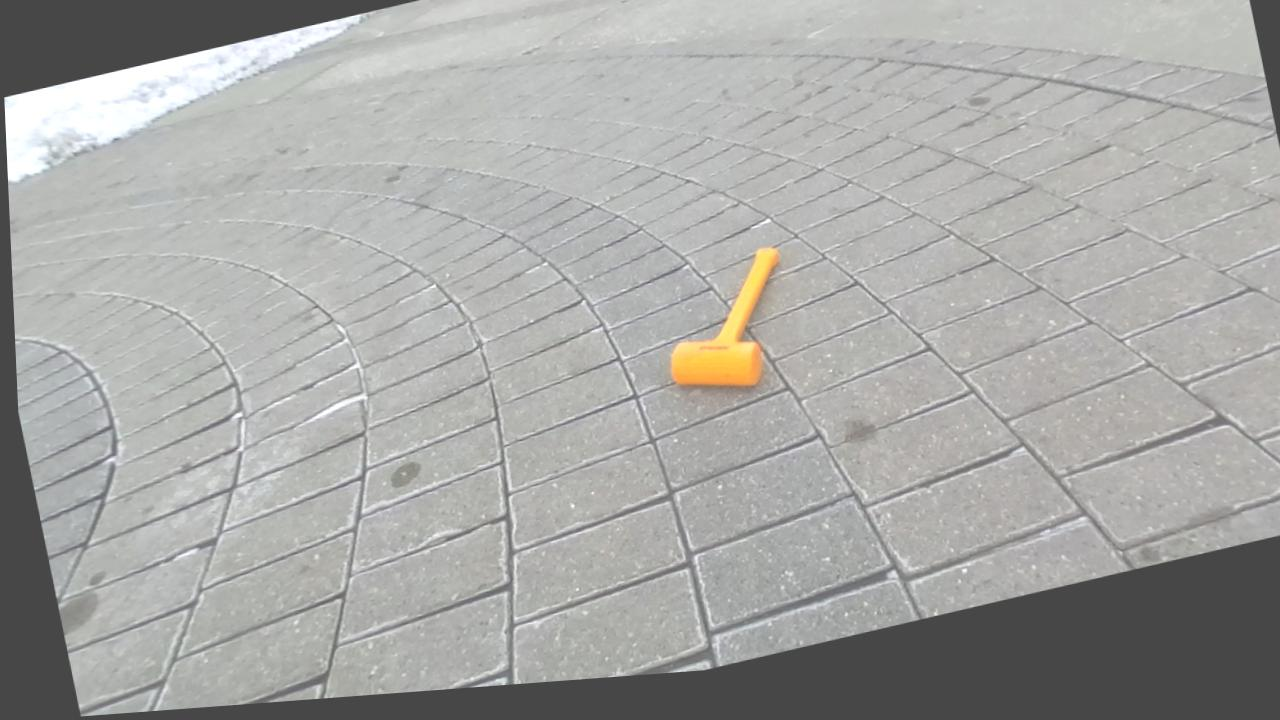mallet: (671, 247, 777, 385)
